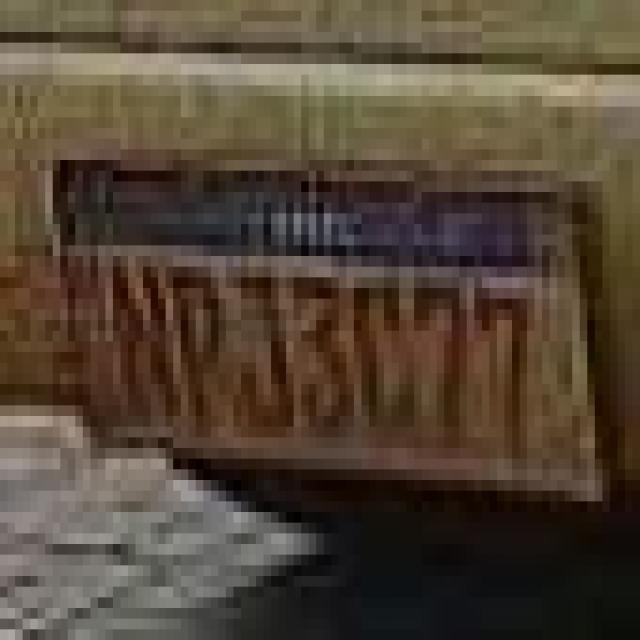3: (296, 271, 346, 435)
7: (475, 269, 537, 471), (418, 276, 472, 444)
C: (358, 273, 407, 440)
J: (238, 267, 294, 430)
N: (117, 260, 173, 416)
P: (176, 253, 232, 427)
